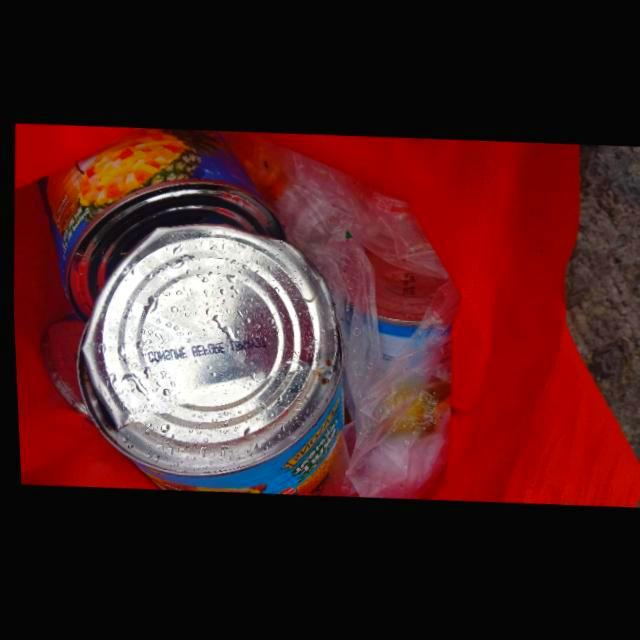aluminum: (72, 226, 341, 495), (38, 128, 283, 322)
plastic_bag: (218, 131, 450, 500)
